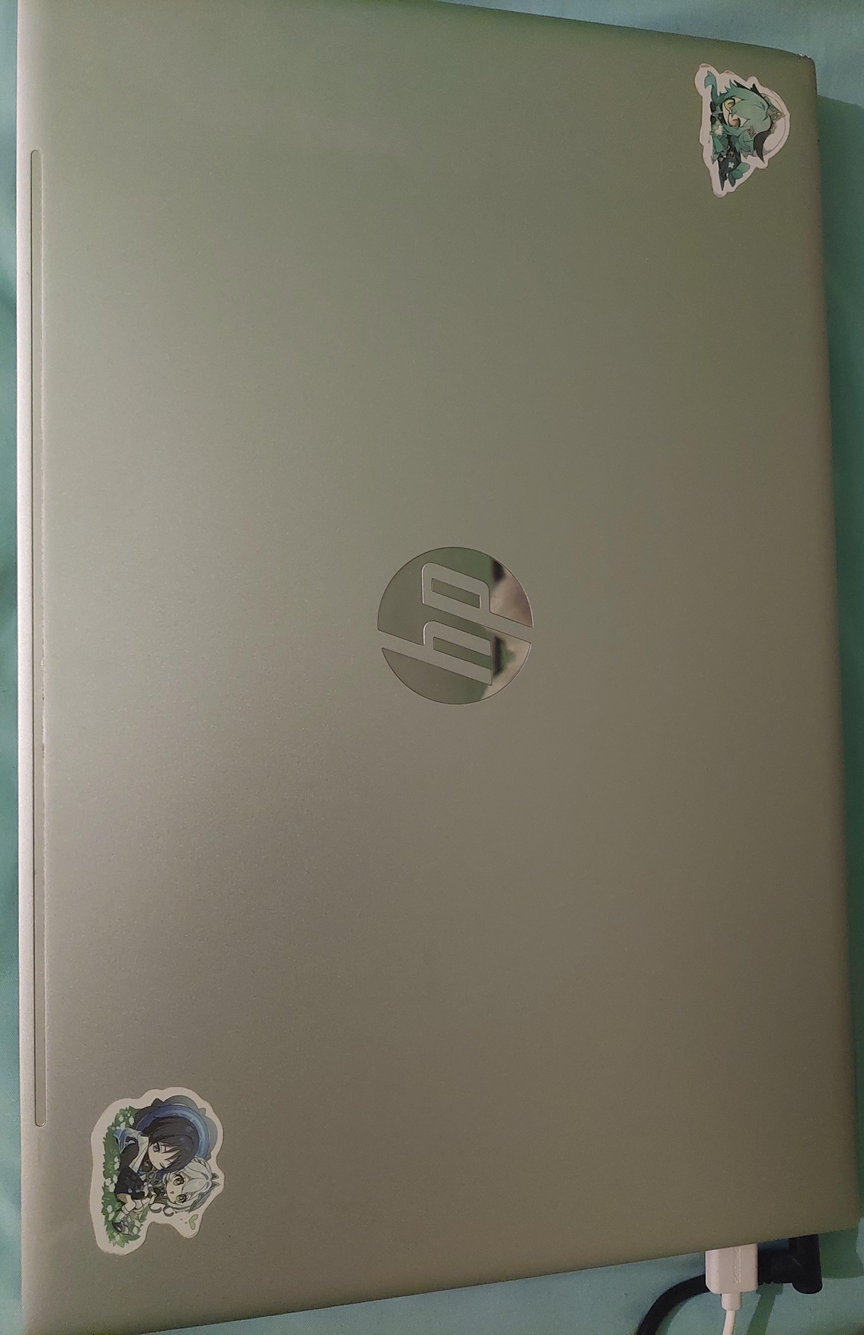laptop: (17, 0, 863, 1334)
